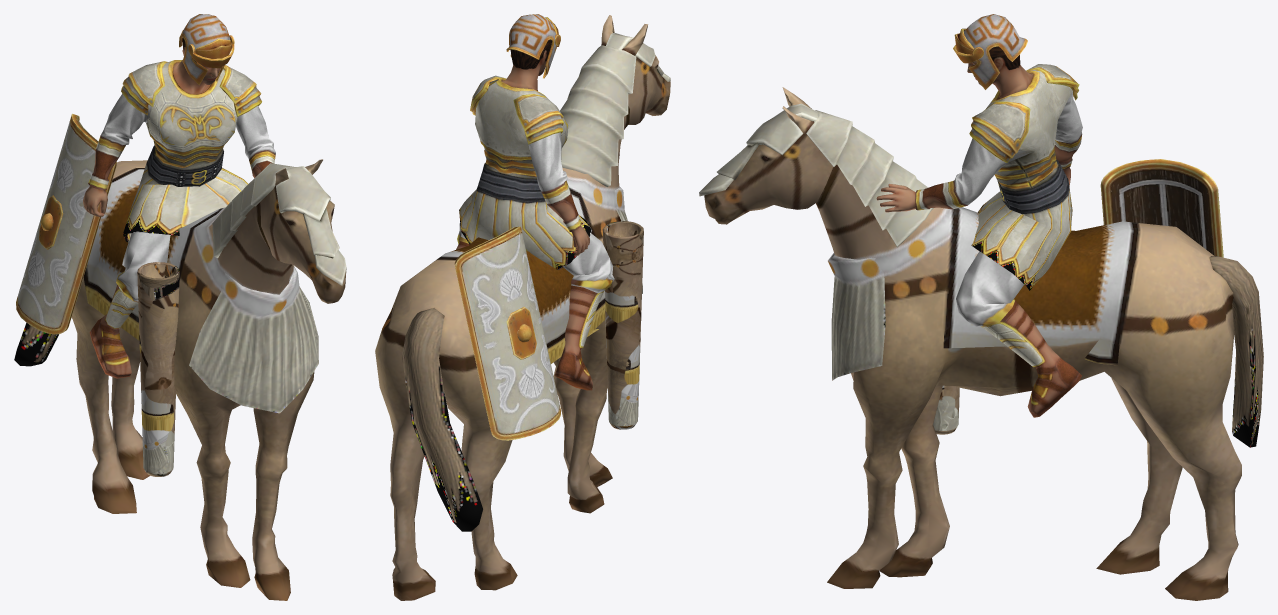
The model's file is 88-turmahero.glb.
The picture shows the model from 3 angles, left to right: view 1: azimuth 30°, elevation 25°; view 2: azimuth 150°, elevation 25°; view 3: azimuth 270°, elevation 25°; orthographic projection. The views are drawn at different scales.
Bounding box in the file's own units: 1.03 × 2.93 × 2.65.
Materials: 4 (4 with a texture image).
